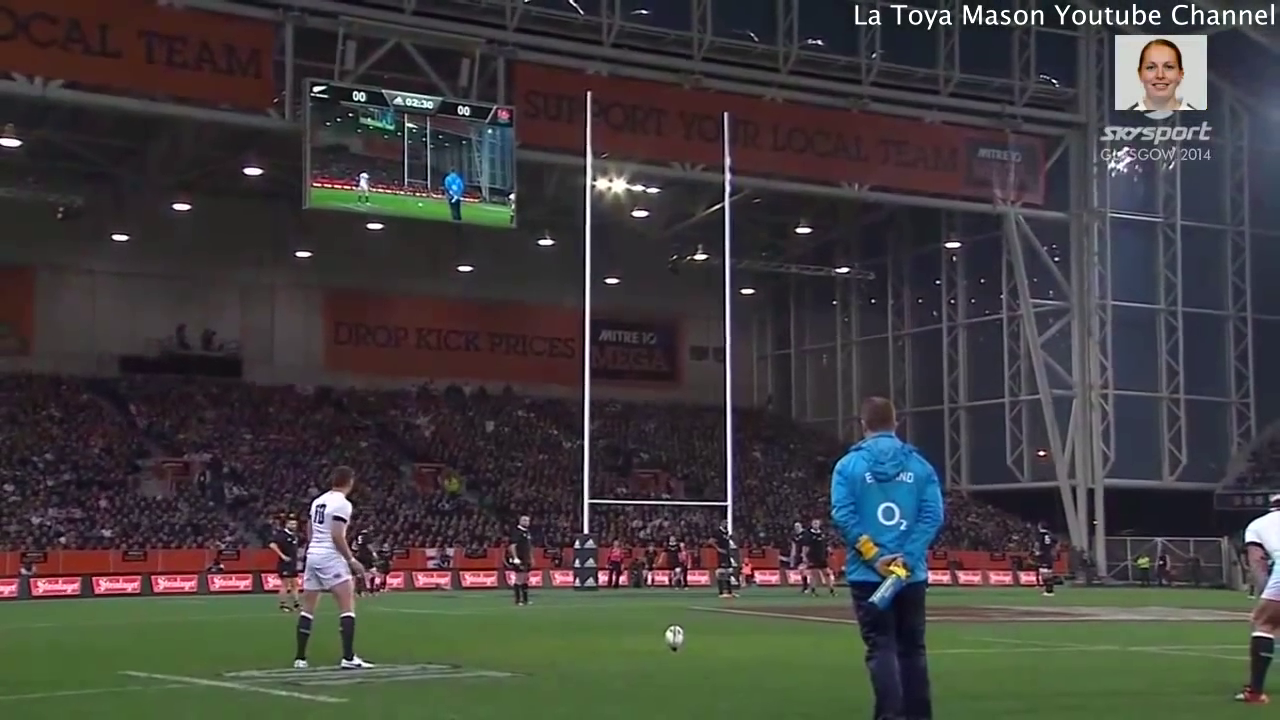ball: (656, 619, 692, 656)
player: (827, 390, 959, 720), (280, 464, 380, 676), (1222, 482, 1280, 712), (494, 509, 541, 612), (271, 512, 305, 614), (805, 518, 842, 599), (788, 518, 816, 609), (710, 520, 742, 598), (656, 532, 687, 595), (352, 523, 378, 597), (603, 535, 628, 593), (374, 538, 397, 594)
post: (555, 255, 746, 595)
